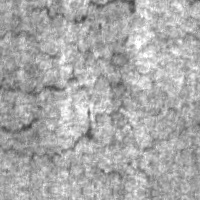crazing: (0, 42, 127, 165), (66, 96, 199, 186), (10, 0, 142, 36)
